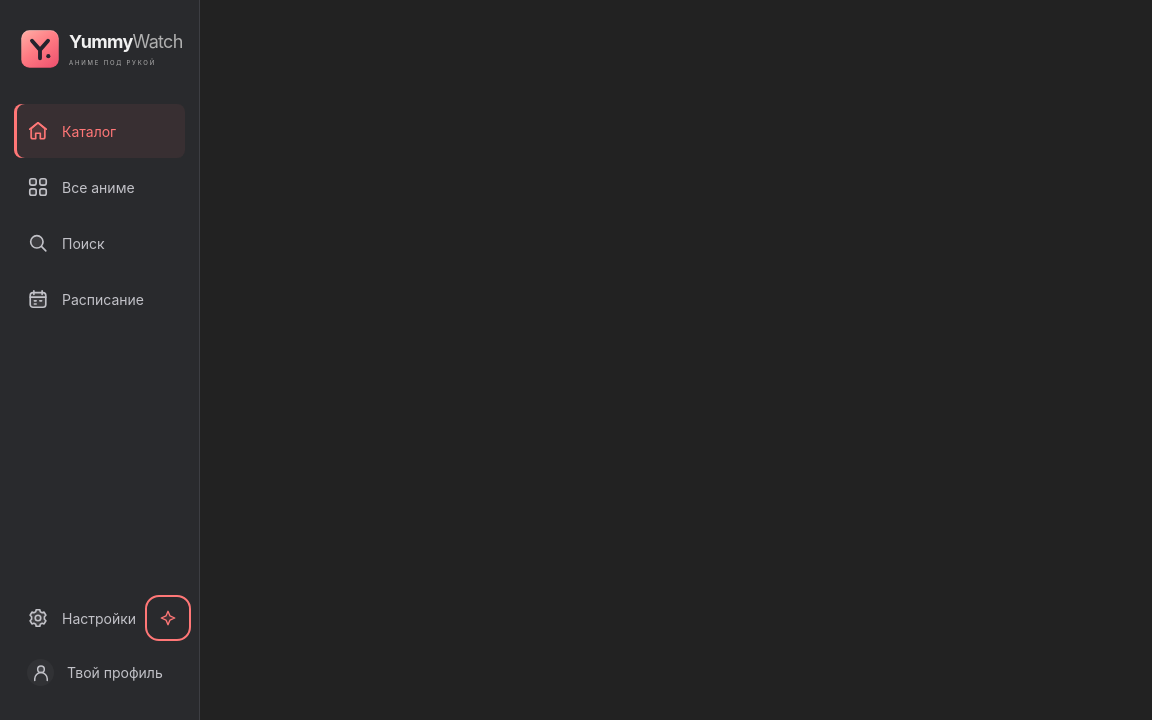
Test: opens update details at the navigation indicator and dismisses them with Escape
Later steps or results of the test are not shown.
Check: the link "Настройки" is shown, box [27,607,136,629]
Check: the text "Доступна версия 0.0.8" is not shown
Click the button named "Доступно обновление YummyWatch". click: x=168, y=618
box: [151,601,185,635]
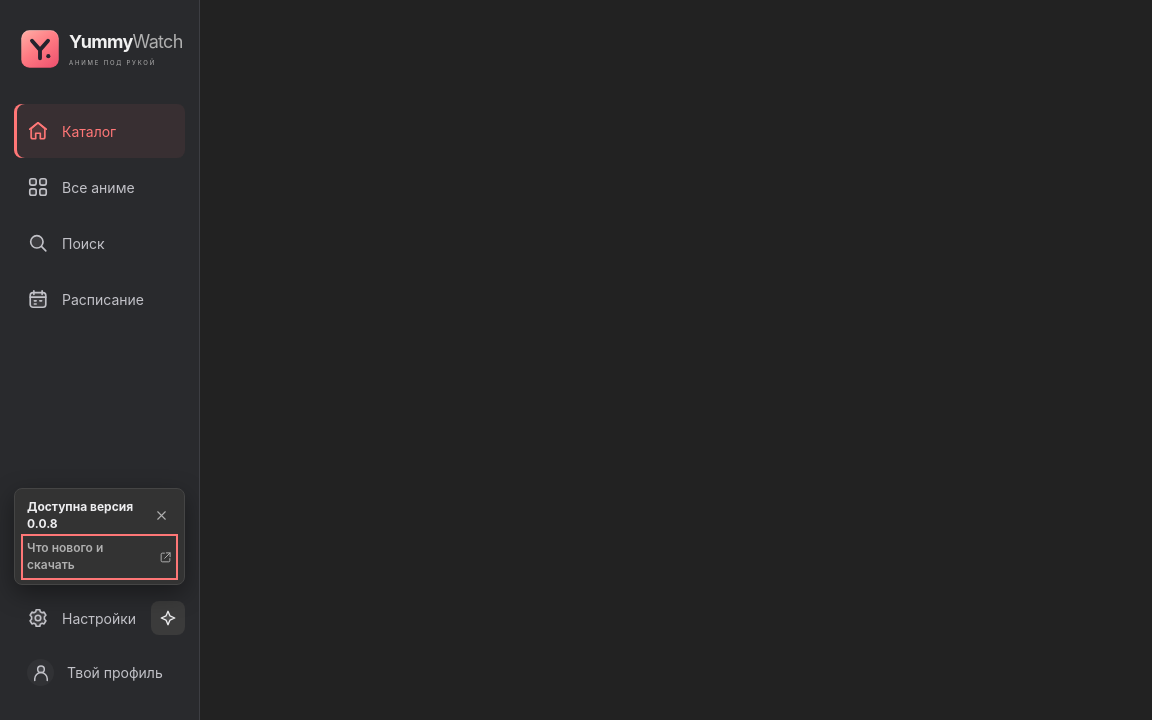
Check: the button named "Доступно обновление YummyWatch" is expanded, box [151,601,185,635]
Check: the text "Доступна версия 0.0.8" is shown, box [27,499,144,532]
Press Escape in the link "Что нового и скачать", box [27,540,172,574]
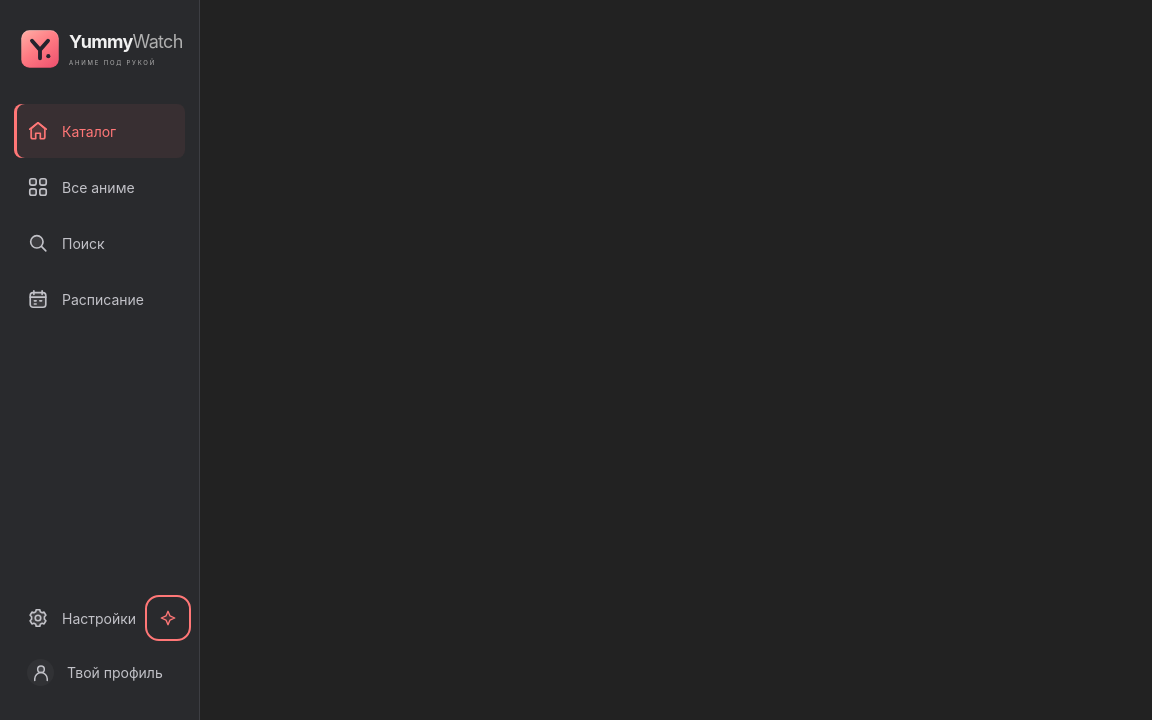
Check: the link "Что нового и скачать" is gone
